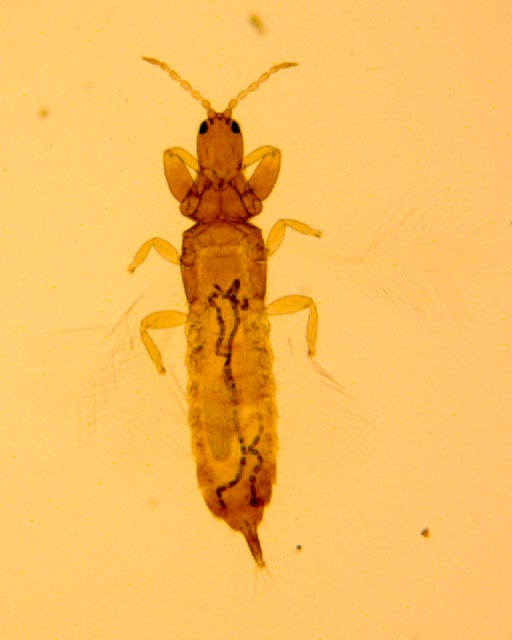Phlaeothripidae: (115, 56, 347, 588)
